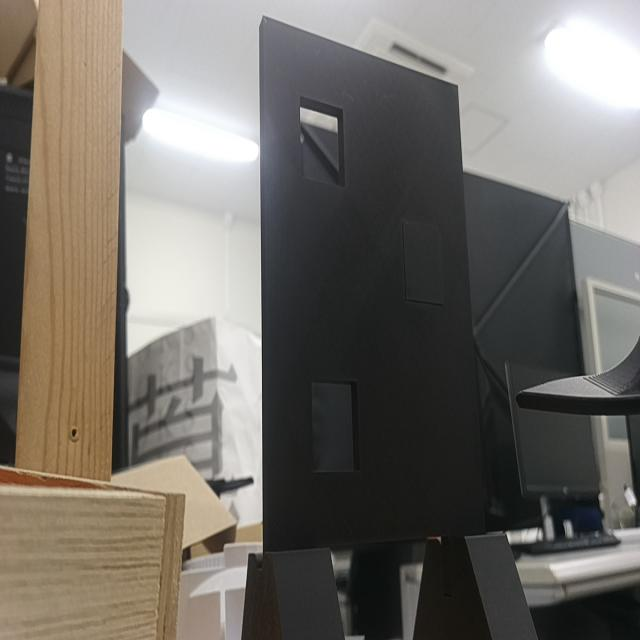Obstacle: (313, 381, 360, 474), (301, 94, 346, 189)
Wall: (260, 17, 485, 550)
